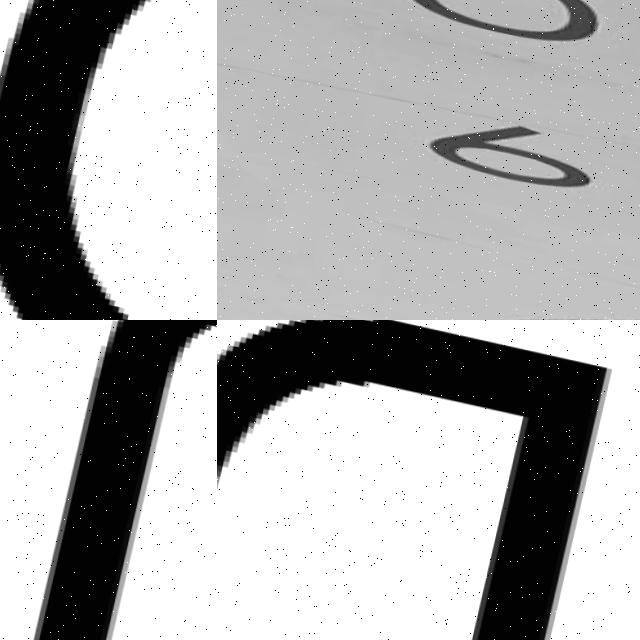0: (370, 0, 623, 59)
9: (394, 97, 622, 200), (470, 268, 640, 320)
D: (217, 320, 620, 640)
J: (3, 320, 217, 640)
